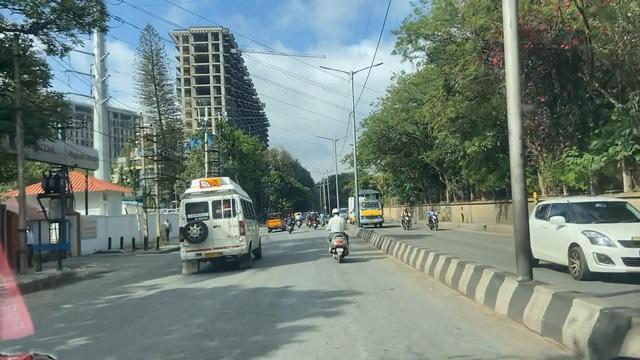HMV: (178, 176, 264, 270), (323, 212, 350, 258)
